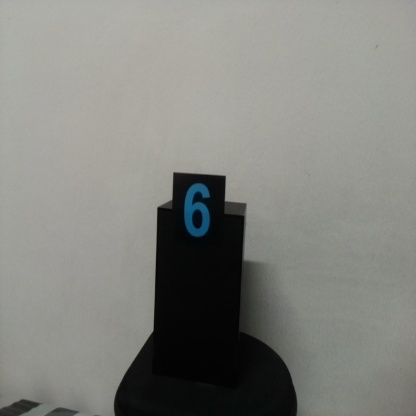id_6: (171, 173, 225, 255)
